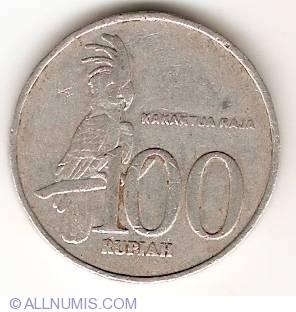coin_100_e1999: (11, 0, 286, 286)
